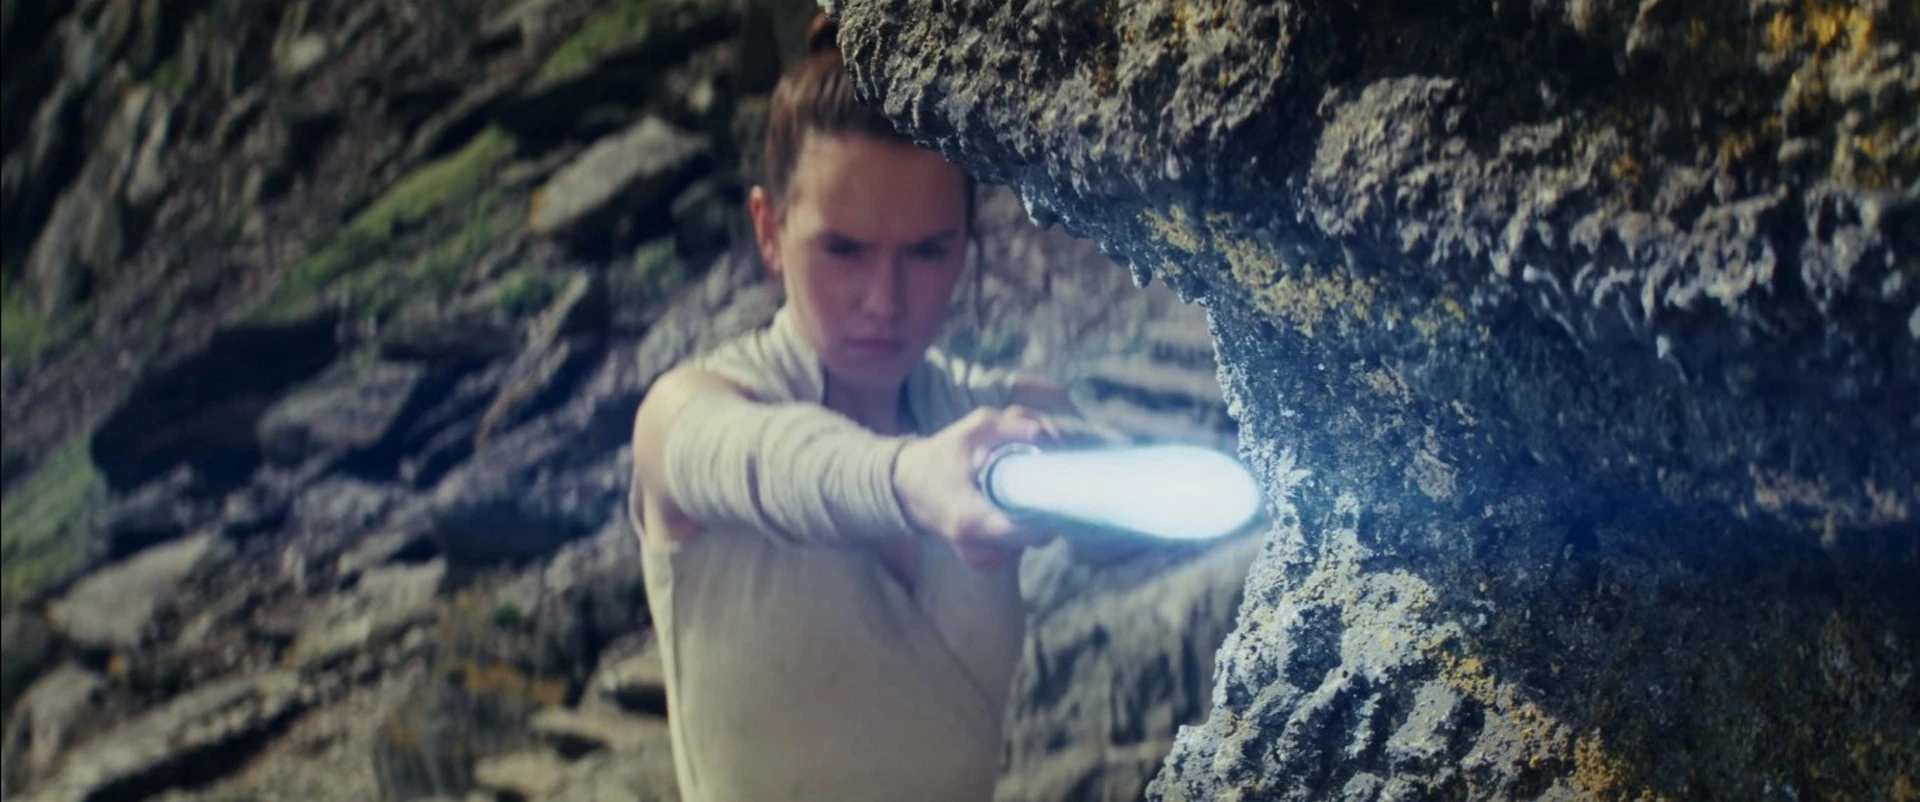Dalek: (962, 443, 1270, 546)
